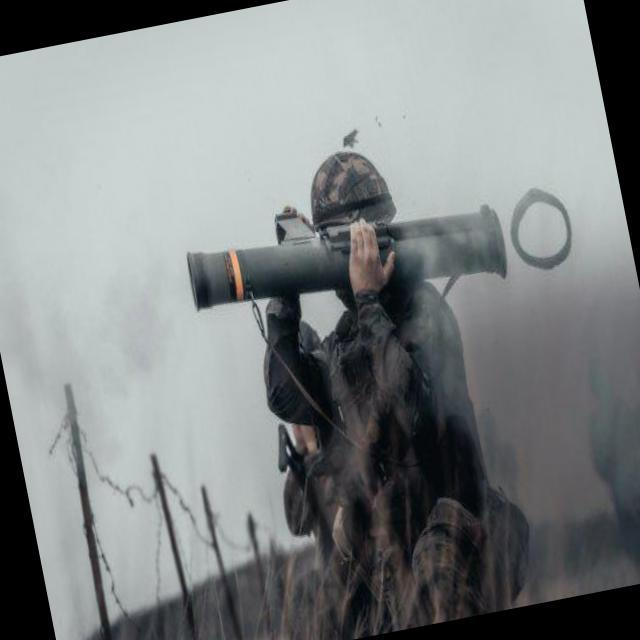rocket: (178, 176, 514, 338)
